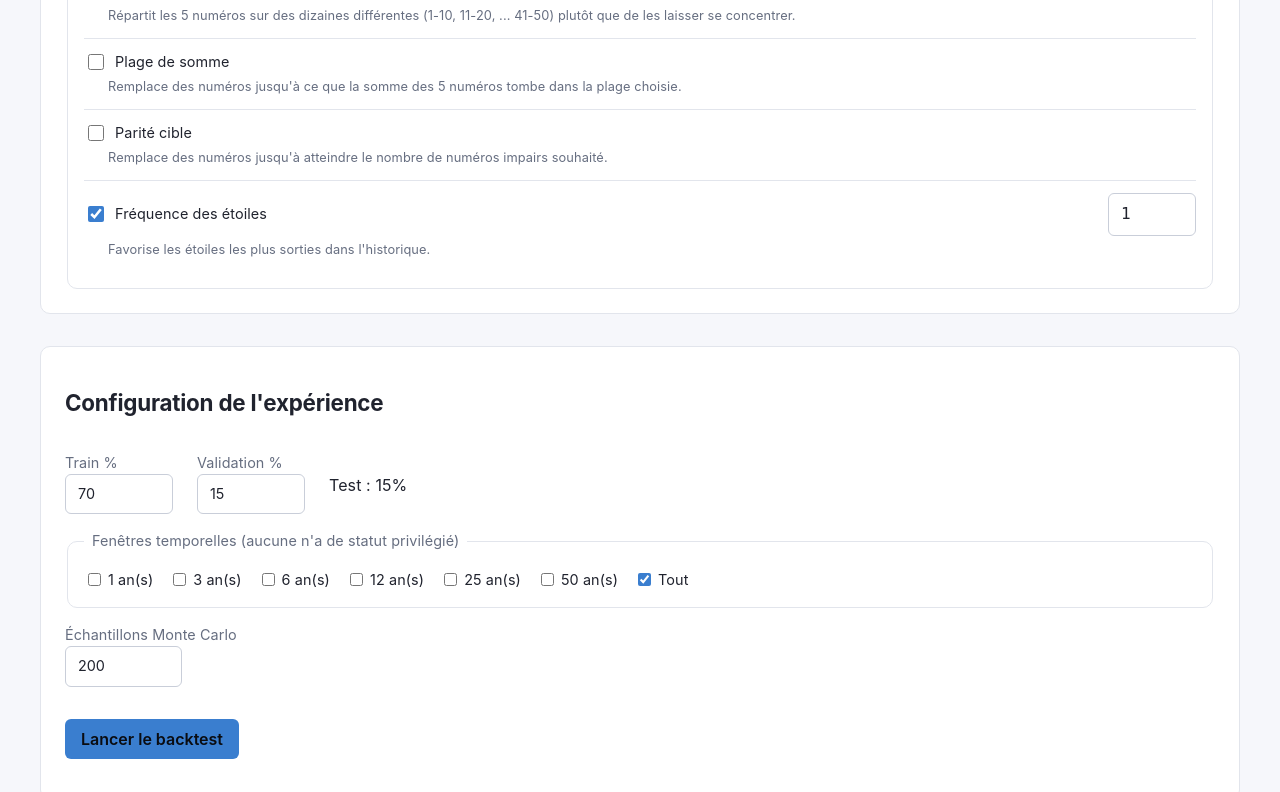
Test: LaboratoryPage › runs a backtest and shows results with baselines and Monte Carlo
(page scrolled)
Click the button with test id "run-experiment-button" at [152, 739], box x1=65 y1=719 x2=239 y2=759
(page scrolled)
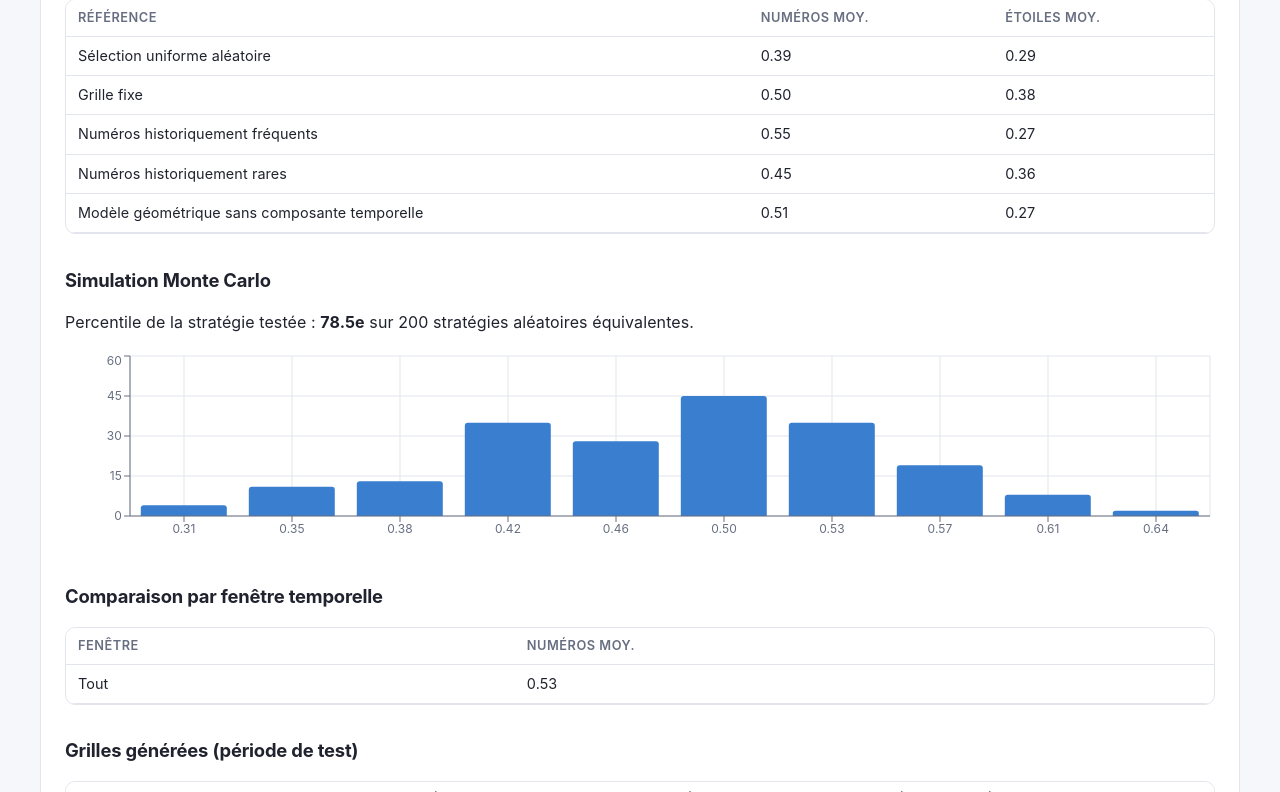
Now the element with test id "monte-carlo" is shown, box x1=65 y1=250 x2=1215 y2=551
